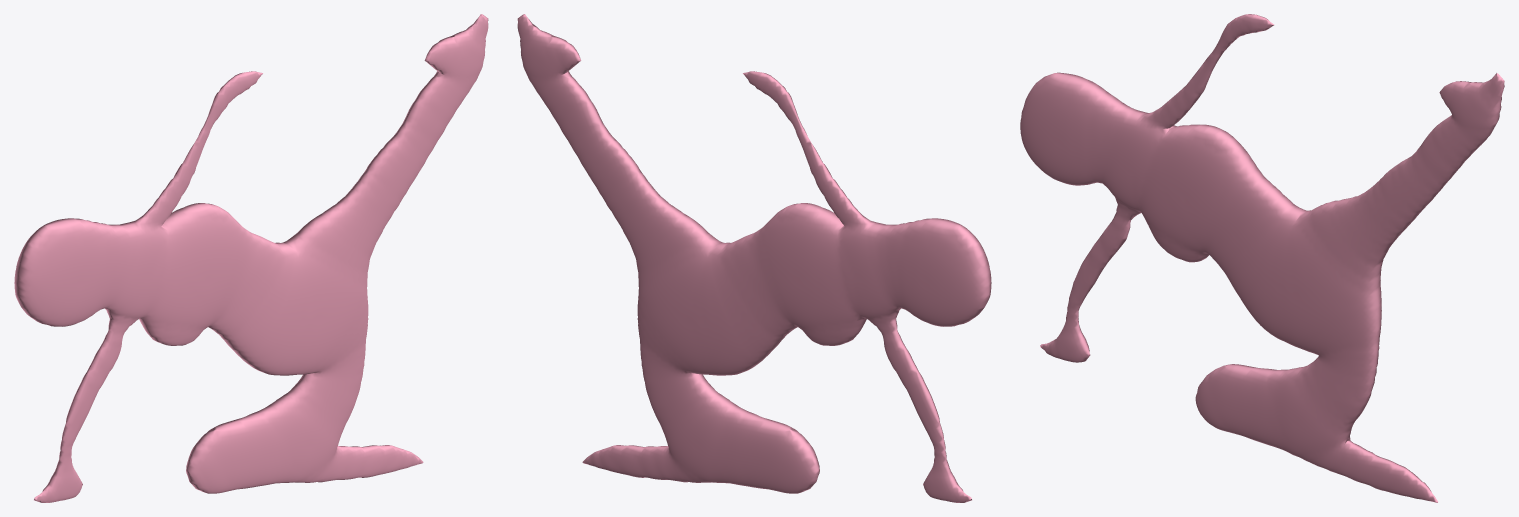
Rendered from pinky2.fbx.
3 renders of one model, left to right at view 1: azimuth 30°, elevation 25°; view 2: azimuth 150°, elevation 25°; view 3: azimuth 330°, elevation 25°, orthographic. The views are drawn at different scales.
Parts seen in each view (by area): view 1: root; view 2: root; view 3: root.
Boxes of the visible parts, x1,y1,x2,y2 form: root: (14,14,488,502); root: (517,14,991,502); root: (1020,14,1504,502).
Bounding box in the file's own units: 0.4725 × 0.4172 × 0.0593.
